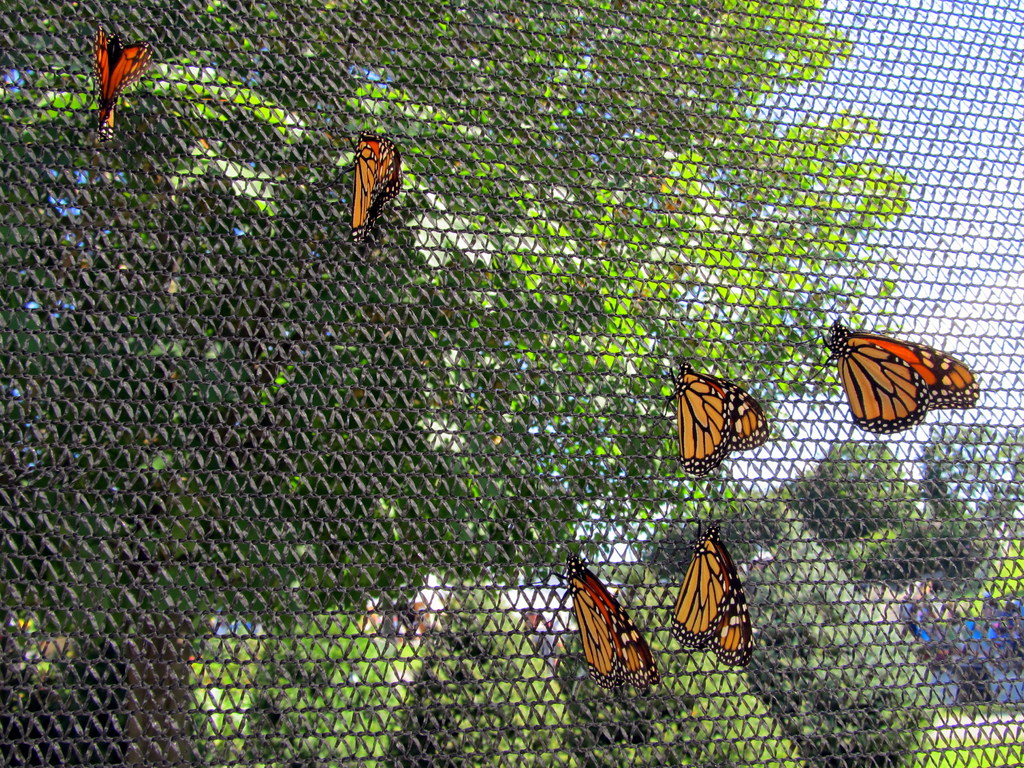Butterfly: (813, 324, 993, 435), (58, 3, 168, 159), (664, 524, 764, 666), (665, 361, 779, 485), (557, 552, 661, 681), (321, 122, 425, 248)
